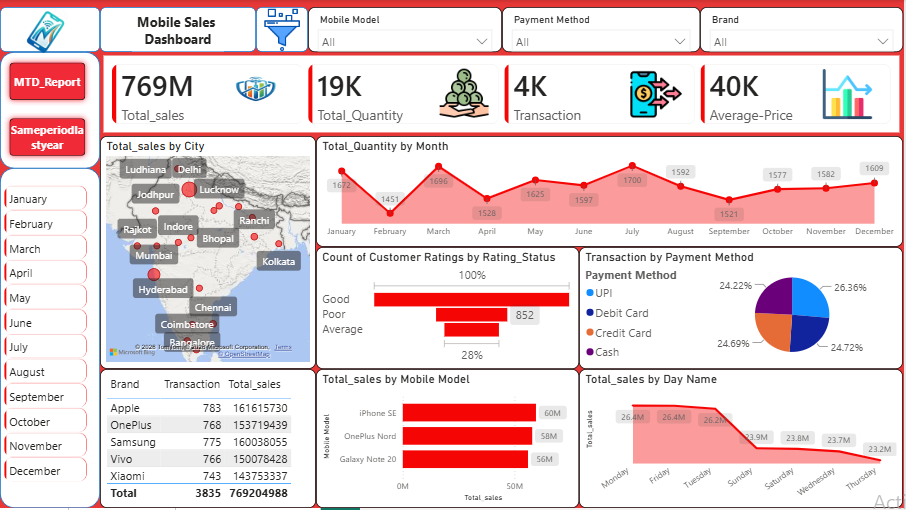

Layout of this report page (visuals, bound fields, positions):
{"tool":"powerbi","page":{"name":"Dashboard","canvas":[1280,720],"ordinal":0},"visuals":[{"type":"shape","box":[0,9.9,141.7,63.8],"z":0},{"type":"shape","box":[0,73.3,141.7,165],"z":1000},{"type":"shape","box":[0,238.3,141.7,481.7],"z":2000},{"type":"advancedSlicerVisual","fields":{"Values":["Custom_calender.Date.Variation.Date Hierarchy.Month"]},"box":[0,238.1,129,481.9],"z":3000},{"type":"cardVisual","fields":{"Data":["Mobile_Sales_Data.Total_sales","Mobile_Sales_Data.Total_Quantity","Mobile_Sales_Data.Transaction","Mobile_Sales_Data.Average-Price"]},"box":[141.7,73.7,1138.1,119.1],"z":4000},{"type":"slicer","fields":{"Values":["Mobile_Sales_Data.Mobile Model"]},"box":[436.5,9.9,275,63.8],"z":5000},{"type":"slicer","fields":{"Values":["Mobile_Sales_Data.Payment Method"]},"box":[711.5,9.9,280.6,63.8],"z":6000},{"type":"slicer","fields":{"Values":["Mobile_Sales_Data.Brand"]},"box":[992.1,9.9,287.7,63.8],"z":7000},{"type":"shape","box":[362.8,9.9,73.7,63.8],"z":8000},{"type":"image","box":[362.8,11.3,73.7,62.4],"z":9000},{"type":"image","box":[289.1,96.4,147.4,73.7],"z":10000},{"type":"image","box":[1155.1,97.8,92.1,70.9],"z":11000},{"type":"image","box":[867.4,97.8,124.7,72.3],"z":12000},{"type":"image","box":[603.8,95,107.7,73.7],"z":13000},{"type":"shape","box":[141.7,9.9,221.1,63.8],"z":14000},{"type":"textbox","box":[187.1,12.8,130.4,59.5],"z":15000},{"type":"map","fields":{"Category":["Mobile_Sales_Data.City"],"Size":["Mobile_Sales_Data.Total_sales"]},"box":[141.7,192.8,306.1,330.2],"z":16000},{"type":"lineChart","fields":{"Y":["Mobile_Sales_Data.Total_Quantity"],"Category":["Custom_calender.Date.Variation.Date Hierarchy.Month"]},"box":[447.9,192.8,832,157.3],"z":17000},{"type":"funnel","fields":{"Y":["CountNonNull(Mobile_Sales_Data.Customer Ratings)"],"Category":["Mobile_Sales_Data.Rating_Status"]},"box":[447.9,350.1,372.8,172.9],"z":18000},{"type":"pieChart","fields":{"Category":["Mobile_Sales_Data.Payment Method"],"Y":["Mobile_Sales_Data.Transaction"]},"box":[820.6,350.1,459.2,172.9],"z":19000},{"type":"clusteredBarChart","fields":{"Y":["Mobile_Sales_Data.Total_sales"],"Category":["Mobile_Sales_Data.Mobile Model"]},"box":[447.9,523,372.8,197],"z":20000},{"type":"areaChart","fields":{"Y":["Mobile_Sales_Data.Total_sales"],"Category":["Custom_calender.Day Name"]},"box":[820.6,523,459.2,197],"z":21000},{"type":"tableEx","fields":{"Values":["Mobile_Sales_Data.Brand","Mobile_Sales_Data.Transaction","Mobile_Sales_Data.Total_sales"]},"box":[142,523,306,197],"z":22000},{"type":"pageNavigator","box":[5.7,80.8,123.3,148.8],"z":24000},{"type":"image","box":[32,16,64,80],"z":24001}]}

Visuals, with their boxes in screenshot pixels (x1, y1, x2, y2), scaled from the page's 1280x720 canvas onto the 906x510 screenshot:
shape: (0,7,100,52)
shape: (0,52,100,169)
shape: (0,169,100,509)
advancedSlicerVisual - Custom_calender.Date.Variation.Date Hierarchy.Month: (0,169,91,509)
cardVisual - Mobile_Sales_Data.Total_sales x Mobile_Sales_Data.Total_Quantity: (100,52,905,137)
slicer - Mobile_Sales_Data.Mobile Model: (309,7,504,52)
slicer - Mobile_Sales_Data.Payment Method: (504,7,702,52)
slicer - Mobile_Sales_Data.Brand: (702,7,905,52)
shape: (257,7,309,52)
image: (257,8,309,52)
image: (205,68,309,120)
image: (818,69,883,119)
image: (614,69,702,120)
image: (427,67,504,119)
shape: (100,7,257,52)
textbox: (132,9,225,51)
map - Mobile_Sales_Data.City x Mobile_Sales_Data.Total_sales: (100,137,317,370)
lineChart - Mobile_Sales_Data.Total_Quantity x Custom_calender.Date.Variation.Date Hierarchy.Month: (317,137,905,248)
funnel - CountNonNull(Mobile_Sales_Data.Customer Ratings) x Mobile_Sales_Data.Rating_Status: (317,248,581,370)
pieChart - Mobile_Sales_Data.Payment Method x Mobile_Sales_Data.Transaction: (581,248,905,370)
clusteredBarChart - Mobile_Sales_Data.Total_sales x Mobile_Sales_Data.Mobile Model: (317,370,581,509)
areaChart - Mobile_Sales_Data.Total_sales x Custom_calender.Day Name: (581,370,905,509)
tableEx - Mobile_Sales_Data.Brand x Mobile_Sales_Data.Transaction: (101,370,317,509)
pageNavigator: (4,57,91,163)
image: (23,11,68,68)
